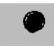correct: (19, 9, 47, 38)
